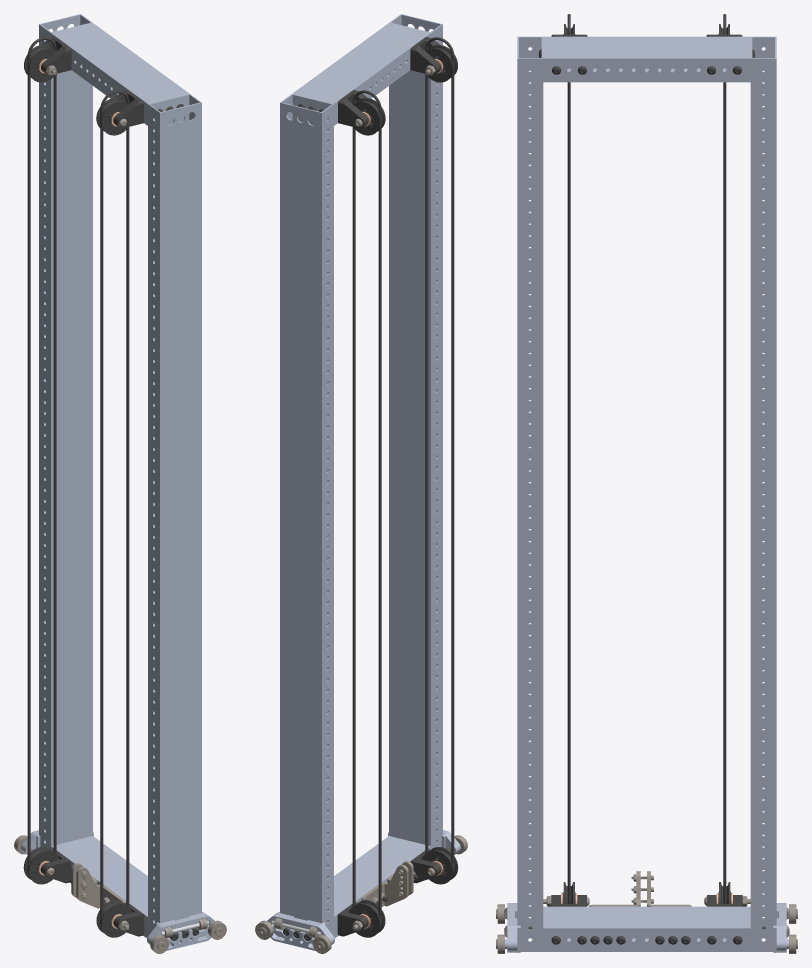
3 renders of one model, left to right at view 1: azimuth 30°, elevation 25°; view 2: azimuth 150°, elevation 25°; view 3: azimuth 270°, elevation 25°, orthographic. The views are drawn at different scales.
Visible parts, largest first — view 1: (2) 1st V tube (×2), (2) String 1 (×2), (2) 1st H tube (×2), Cascade Pulley Block (WCP-0298) (×4), WCP-0096 (×4), WCP-0897-001 Rev1, WCP-0583-026 Rev1; view 2: (2) 1st V tube (×2), (2) String 1 (×2), (2) 1st H tube (×2), Cascade Pulley Block (WCP-0298) (×4), WCP-0096 (×4), WCP-0897-001 Rev1, WCP-0583-025 Rev1; view 3: (2) 1st V tube (×2), (2) 1st H tube (×2), (2) String 1 (×2), WCP-0897-001 Rev1 (×2).
Part boxes in pixels (x1,y1,x2,y2): (2) 1st V tube (×2): (39, 14, 201, 936); (2) String 1 (×2): (27, 37, 129, 925); (2) 1st H tube (×2): (51, 23, 189, 938); Cascade Pulley Block (WCP-0298) (×4): (40, 37, 144, 936); WCP-0096 (×4): (28, 48, 132, 937); WCP-0897-001 Rev1: (147, 912, 214, 950); WCP-0583-026 Rev1: (76, 867, 126, 908); (2) 1st V tube (×2): (280, 14, 442, 936); (2) String 1 (×2): (352, 37, 454, 925); (2) 1st H tube (×2): (292, 23, 430, 938); Cascade Pulley Block (WCP-0298) (×4): (337, 37, 441, 936); WCP-0096 (×4): (349, 48, 453, 937); WCP-0897-001 Rev1: (267, 912, 334, 950); WCP-0583-025 Rev1: (361, 864, 408, 906); (2) 1st V tube (×2): (517, 36, 776, 951); (2) 1st H tube (×2): (543, 36, 750, 951); (2) String 1 (×2): (567, 14, 726, 904); WCP-0897-001 Rev1 (×2): (505, 903, 788, 952).
Size of what is drawn, in the model's own units: 0.1143 by 0.9761 by 0.2956.
